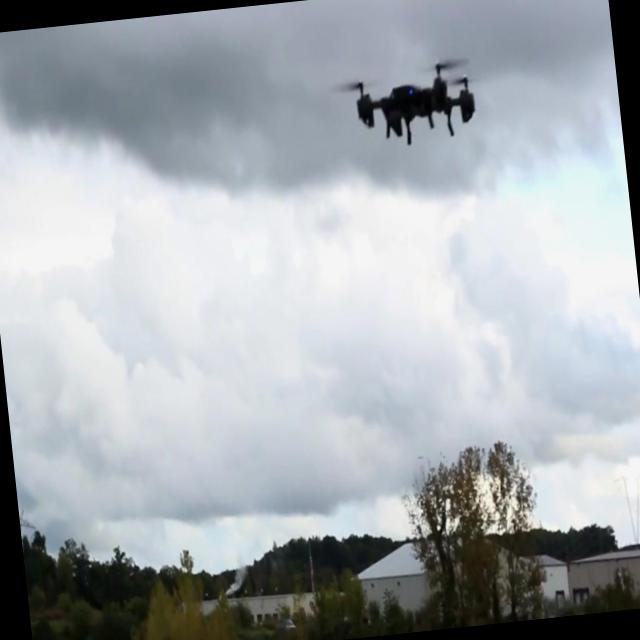drone: (334, 55, 485, 154)
